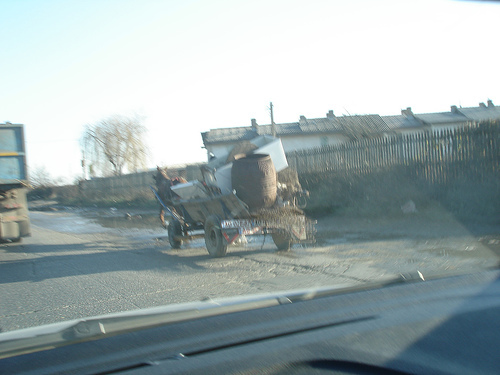horse: (150, 163, 194, 237)
